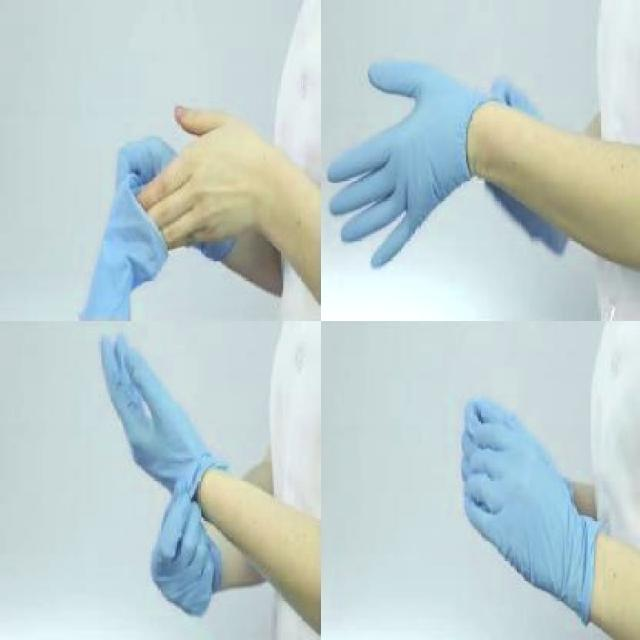hand_glove: (327, 58, 465, 264), (461, 398, 572, 598), (96, 328, 195, 483), (150, 478, 218, 613)
hand_noglove: (129, 101, 266, 250)
